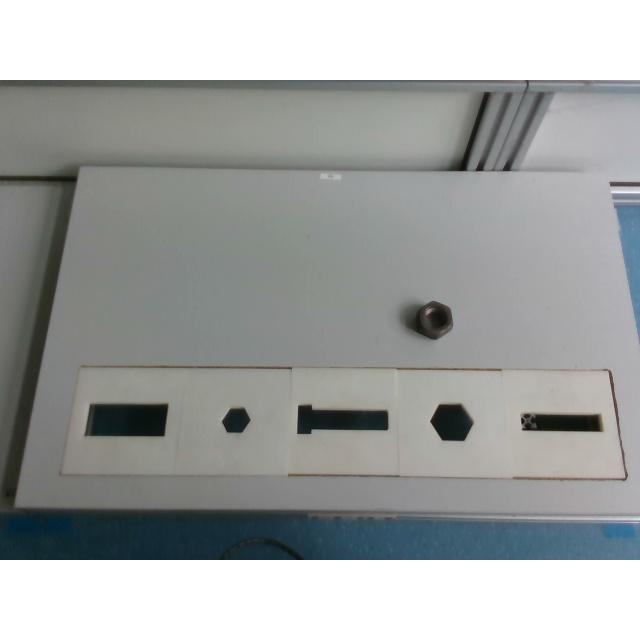M30: (416, 300, 452, 340)
